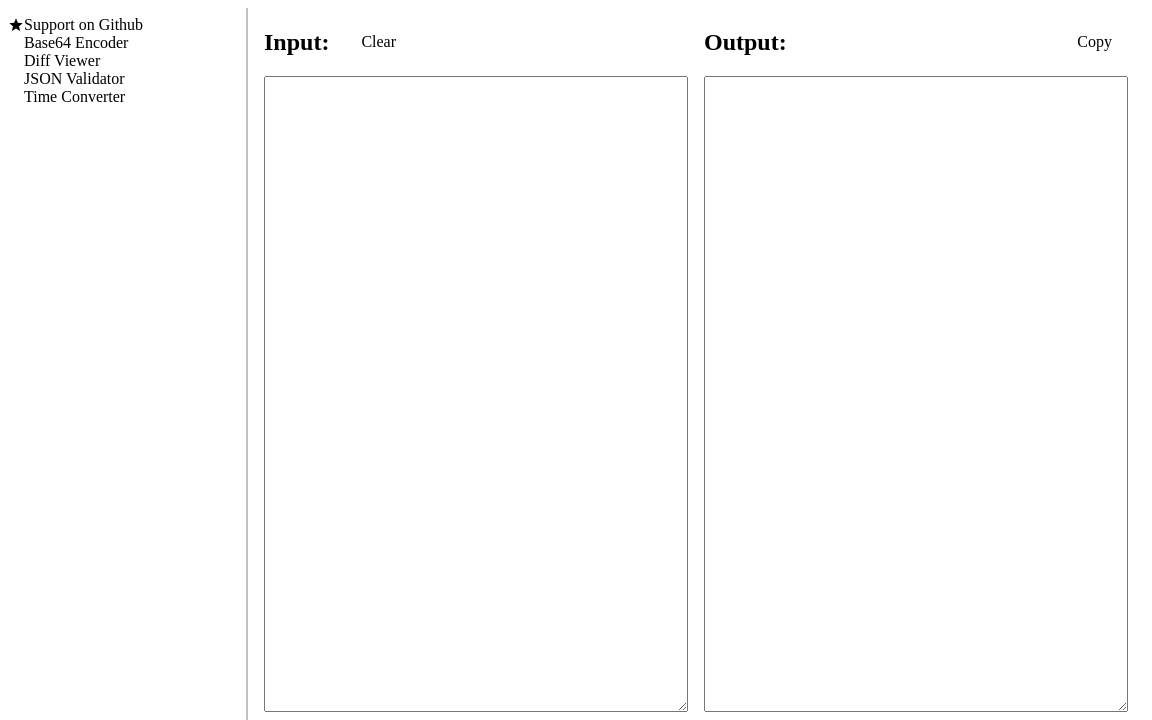
Base64 Encoder Page › should be able to clear input
Type "Test" into the text box with test id "input-textarea" at x=476, y=394, box [264,76,688,712]
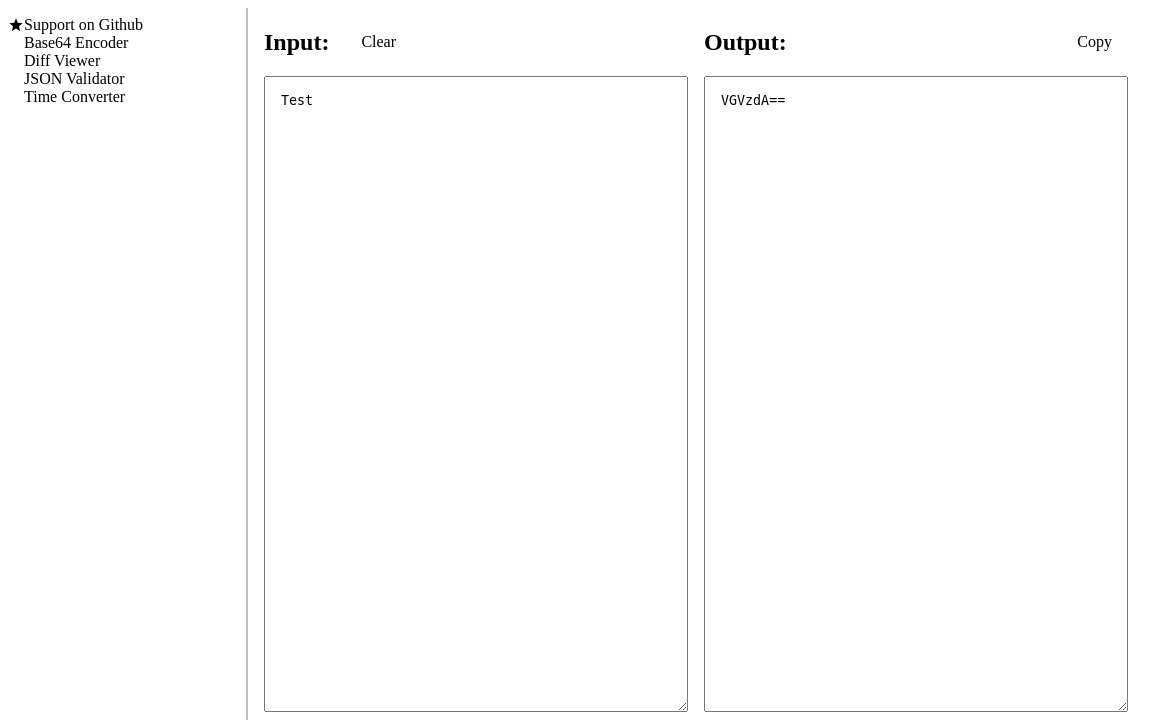
Now the text box with test id "output-textarea" holds "VGVzdA==", box [704,76,1128,712]
Click the button with test id "clear-btn" at x=379, y=42, box [345,24,412,60]
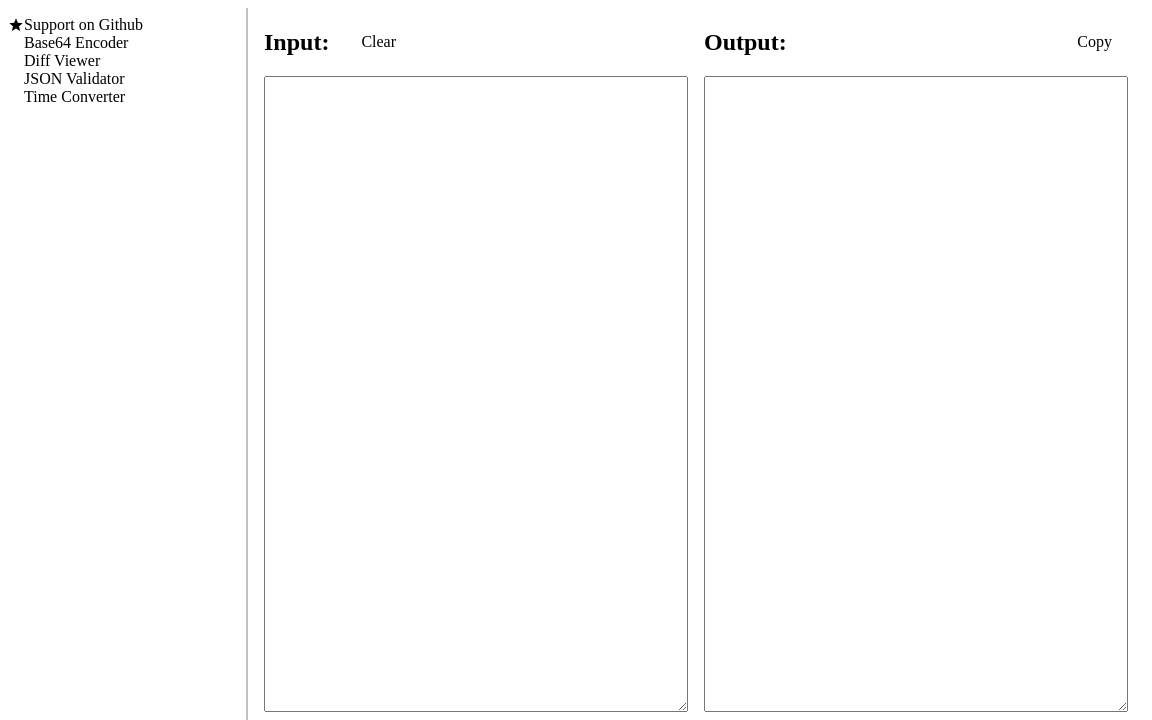
Now the text box with test id "input-textarea" is empty, box [264,76,688,712]
Now the text box with test id "output-textarea" is empty, box [704,76,1128,712]
